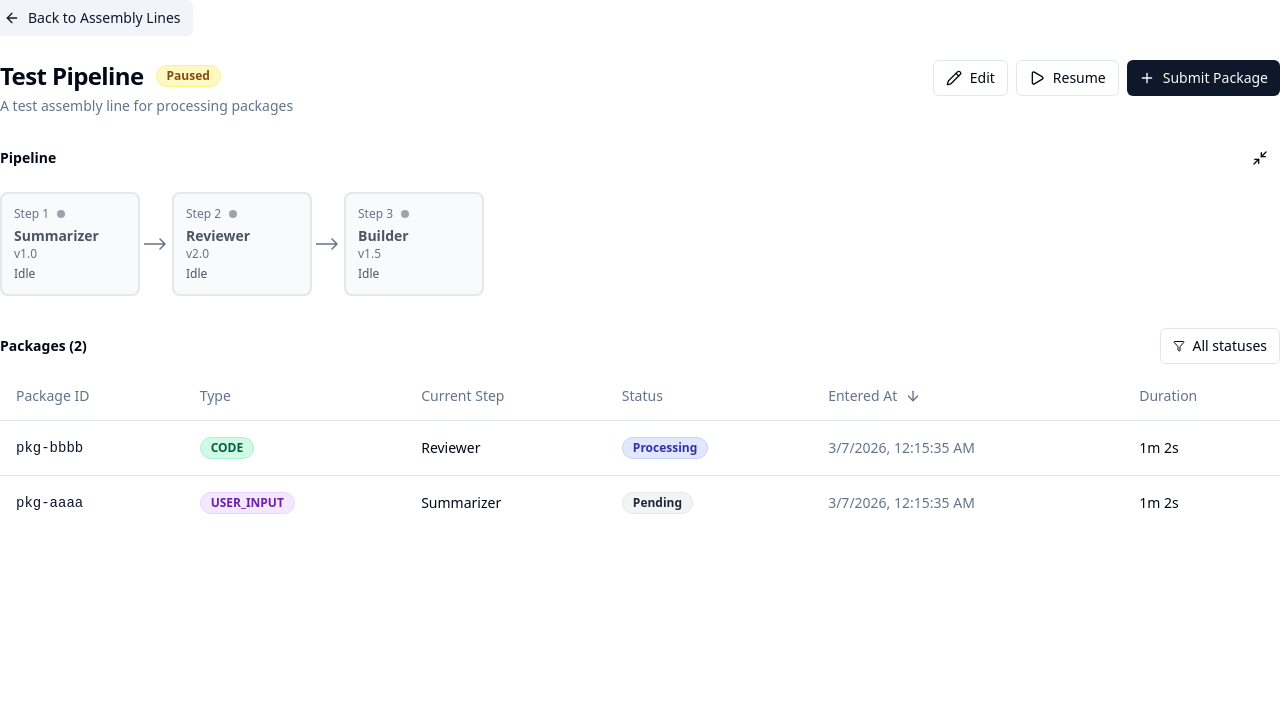
Test case: AssemblyLineDetailPage › Pause/Resume confirmation › opens confirmation dialog when Resume is clicked
Step 1. Click the button "Resume" → x=1067, y=78, box [1016, 60, 1119, 96]
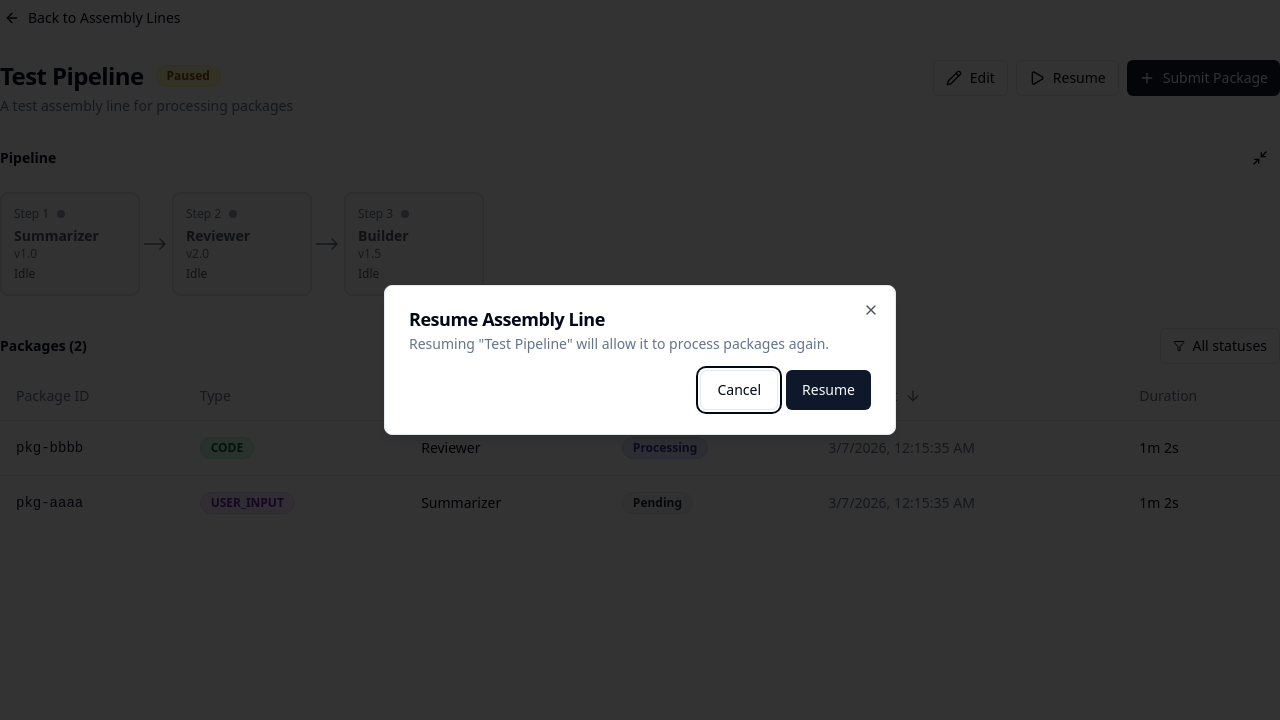
Check: the heading "Resume Assembly Line" is shown, box [409, 307, 605, 331]
Check: the text "will allow it to process packages again" is shown, box [409, 334, 829, 353]
